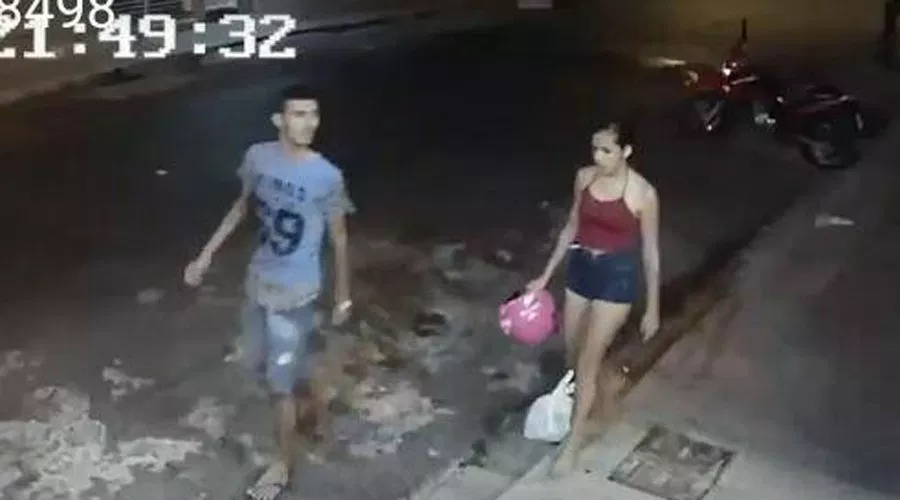Humano: (532, 97, 660, 468), (228, 77, 337, 486)
